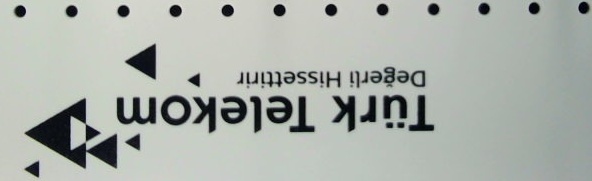AQ_TURKTelekom: (16, 41, 439, 178)
